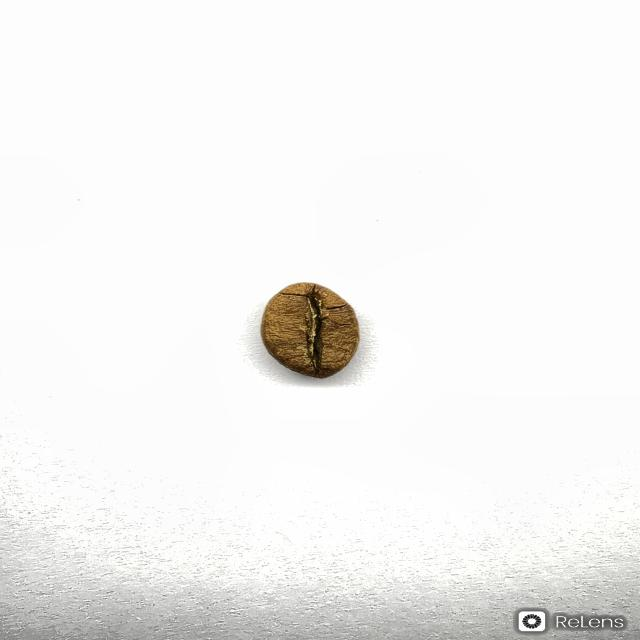Quaker: (259, 281, 360, 379)
